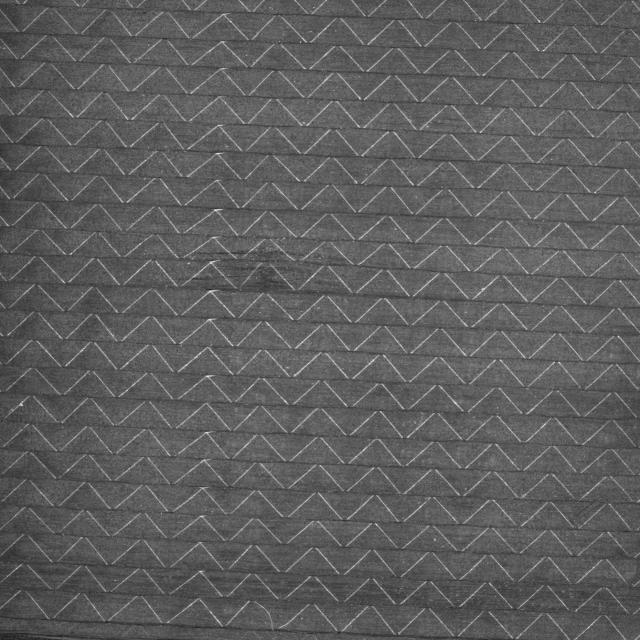carbon-fibre-defect: (178, 232, 352, 294)
